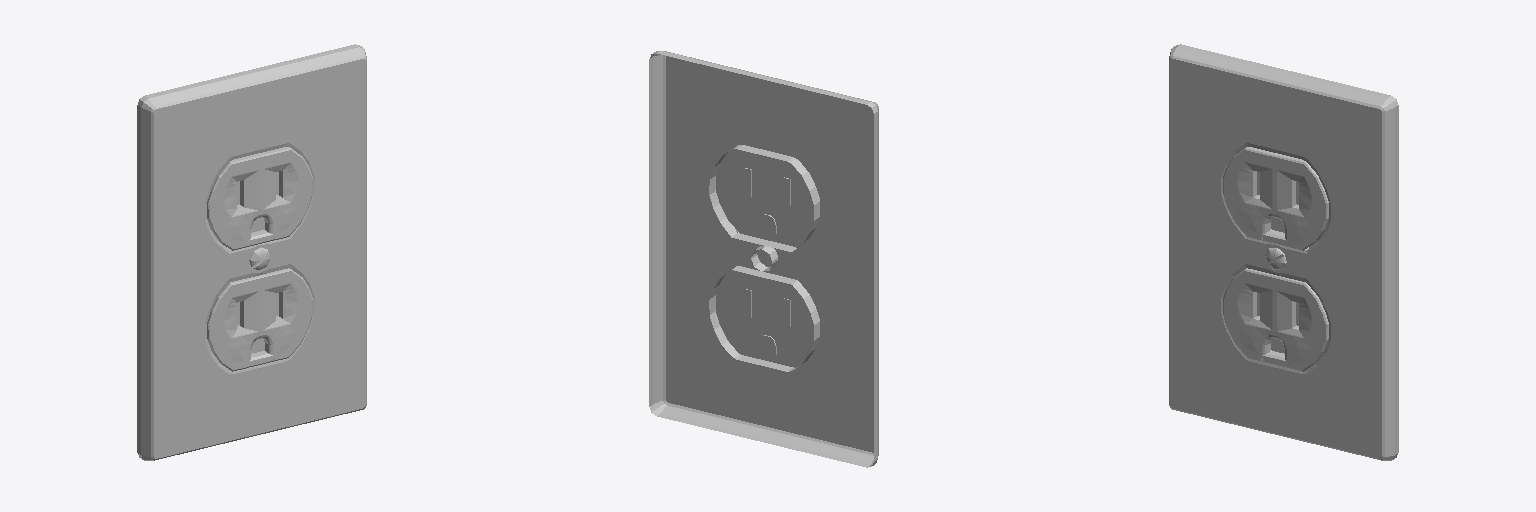
Rendered from tomada_1.obj.
The picture shows the model from 3 angles: view 1: azimuth 30°, elevation 25°; view 2: azimuth 150°, elevation 25°; view 3: azimuth 330°, elevation 25°; orthographic projection.
Parts seen in each view (by area): view 1: tomada_1_tomada_WallSocket; view 2: tomada_1_tomada_WallSocket; view 3: tomada_1_tomada_WallSocket.
Boxes of the visible parts, x1=… form: tomada_1_tomada_WallSocket: x1=137, y1=44, x2=366, y2=460; tomada_1_tomada_WallSocket: x1=649, y1=51, x2=878, y2=467; tomada_1_tomada_WallSocket: x1=1169, y1=44, x2=1398, y2=460.
Size of the model in its own units: 0.275 by 0.4244 by 0.0267.